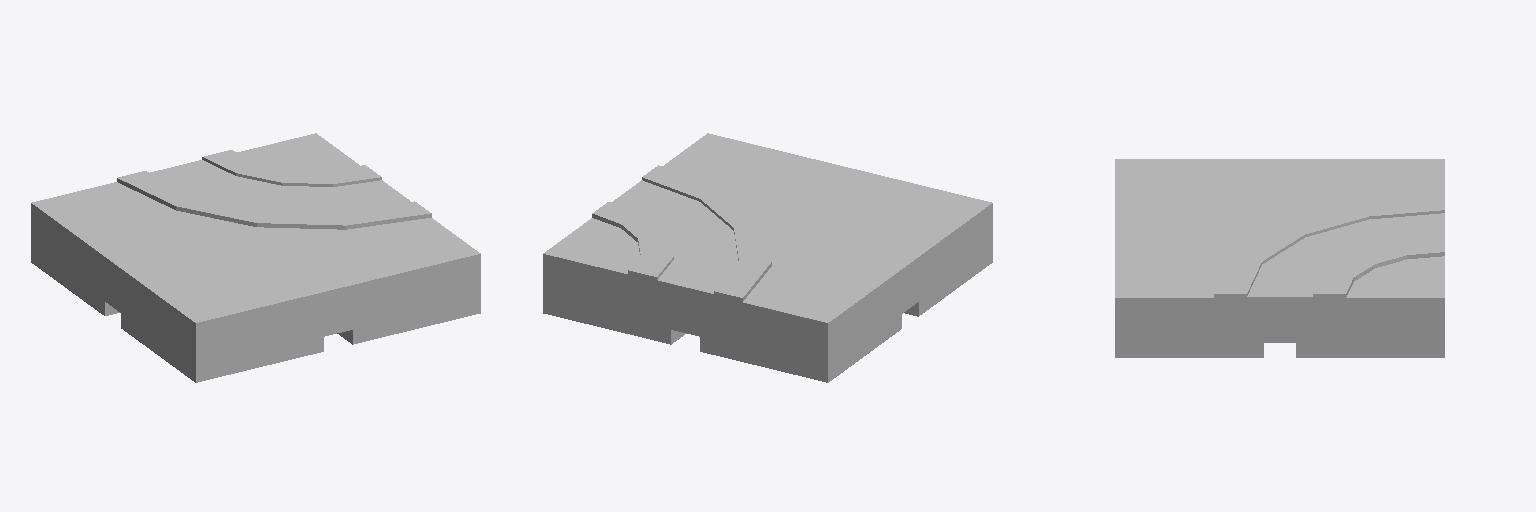
Rendered from puzzlePiece_oneBend_SW.obj.
The picture shows the model from 3 angles: view 1: azimuth 30°, elevation 25°; view 2: azimuth 150°, elevation 25°; view 3: azimuth 270°, elevation 25°; orthographic projection.
Parts seen in each view (by area): view 1: polySurface5 polySurface1, polySurface7, polySurface1 polySurface6; view 2: polySurface5 polySurface1, polySurface7, polySurface1 polySurface6; view 3: polySurface5 polySurface1, polySurface7, polySurface1 polySurface6.
Boxes of the visible parts, <box> form: polySurface5 polySurface1: <box>31,133,480,382</box>; polySurface7: <box>117,150,431,229</box>; polySurface1 polySurface6: <box>150,160,410,211</box>; polySurface5 polySurface1: <box>543,133,992,382</box>; polySurface7: <box>592,165,771,304</box>; polySurface1 polySurface6: <box>612,180,737,301</box>; polySurface5 polySurface1: <box>1115,159,1444,357</box>; polySurface7: <box>1214,196,1444,301</box>; polySurface1 polySurface6: <box>1234,213,1444,298</box>.
Size of the model in its own units: 0.5 by 0.107 by 0.5.